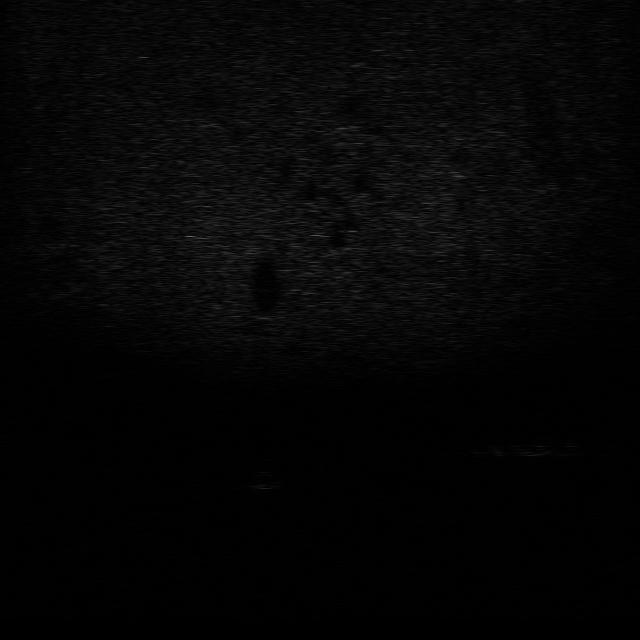ball: (245, 470, 287, 491)
human body: (473, 433, 582, 462)
